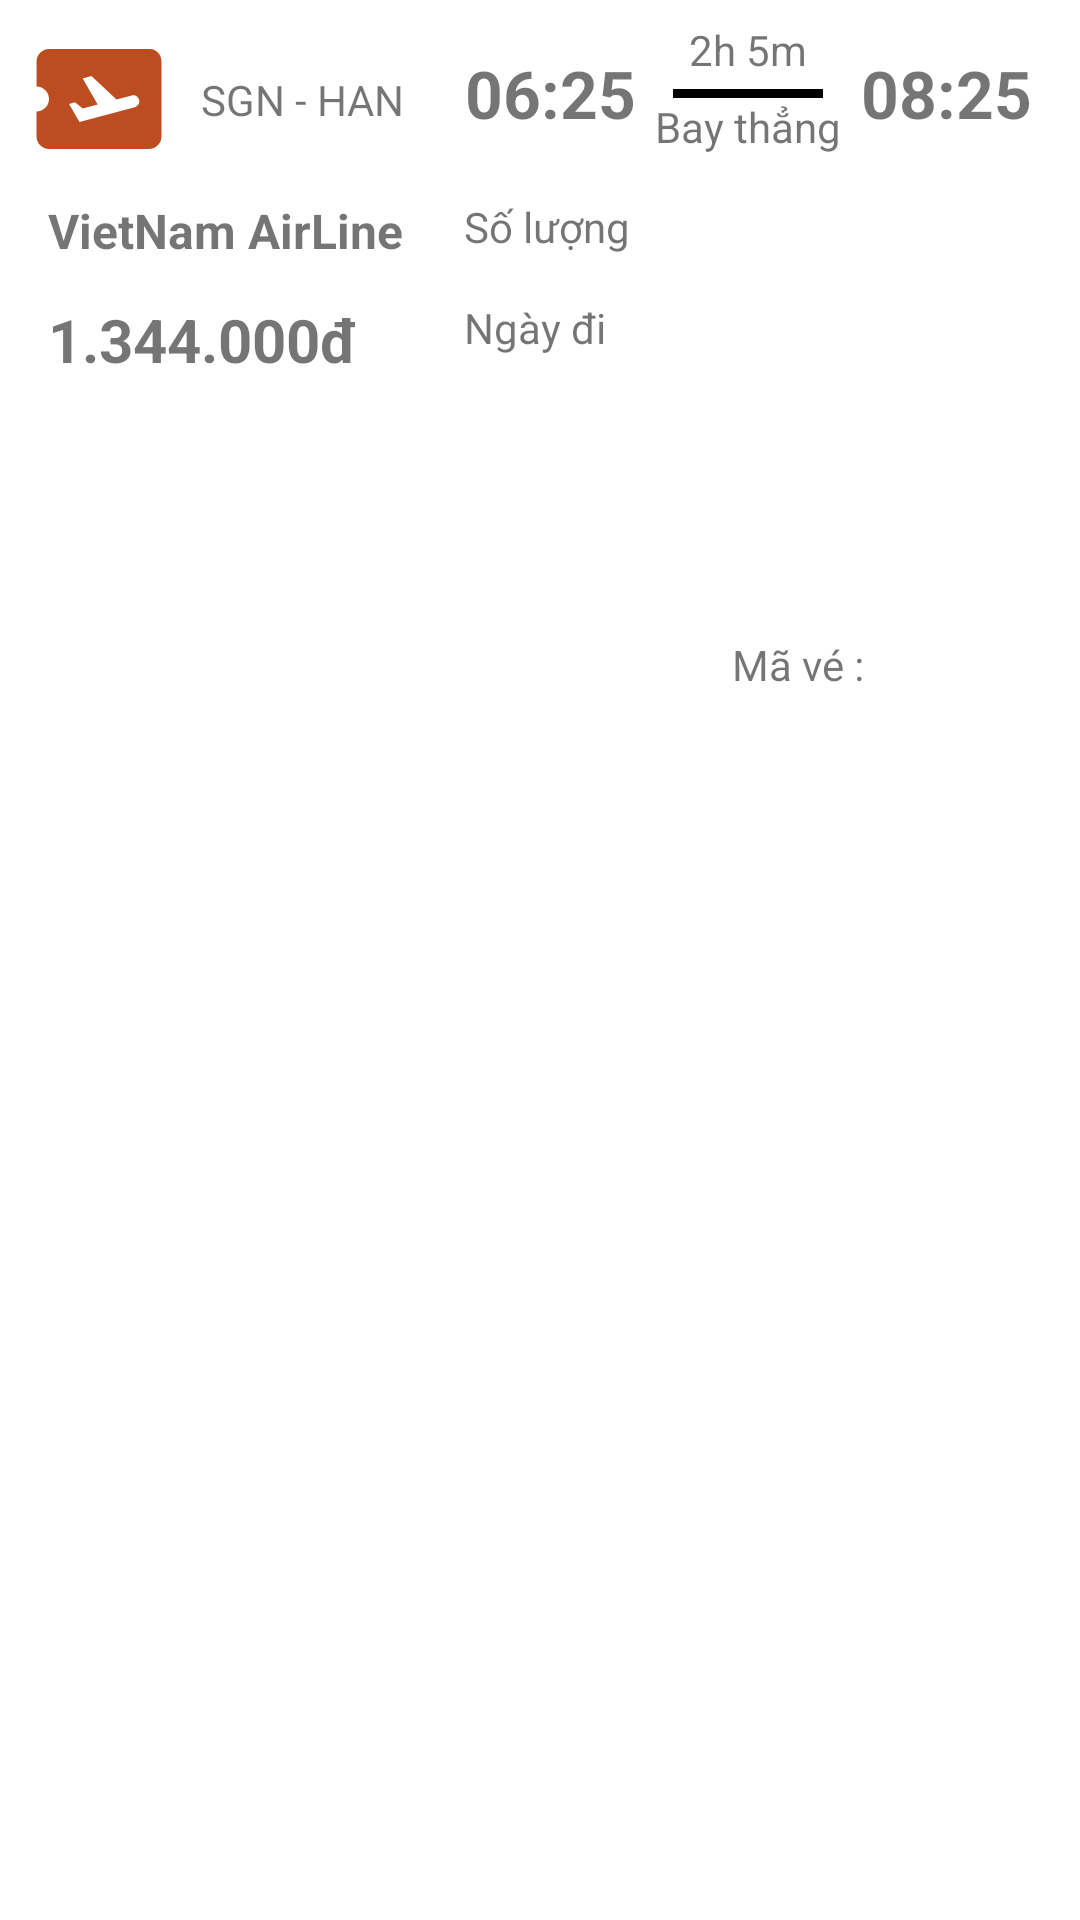

Where to tap for icons on this 1080×1920 app screen, as (x=x, y=y):
airplane ticket: (x=99, y=99)
